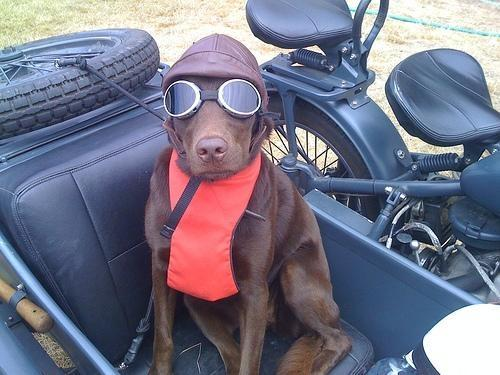motorcycle: (246, 0, 500, 308)
